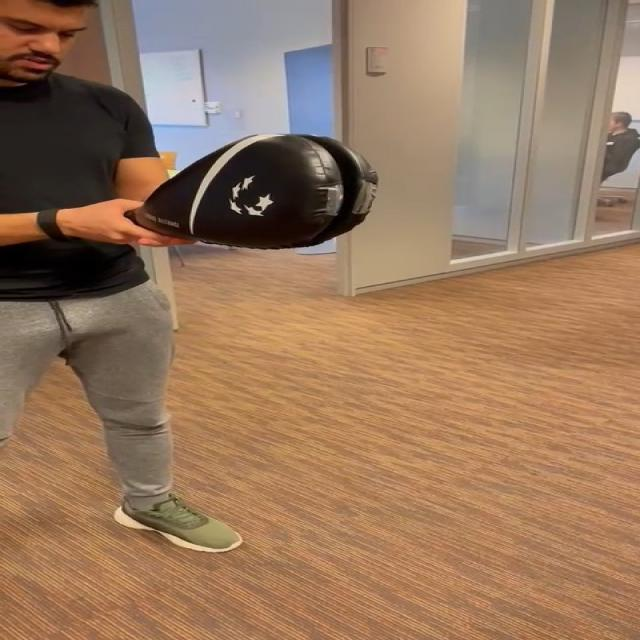paddle: (174, 132, 376, 245)
